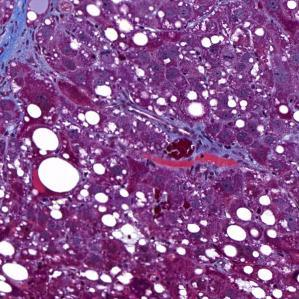fibrosis: (3, 11, 47, 87)
